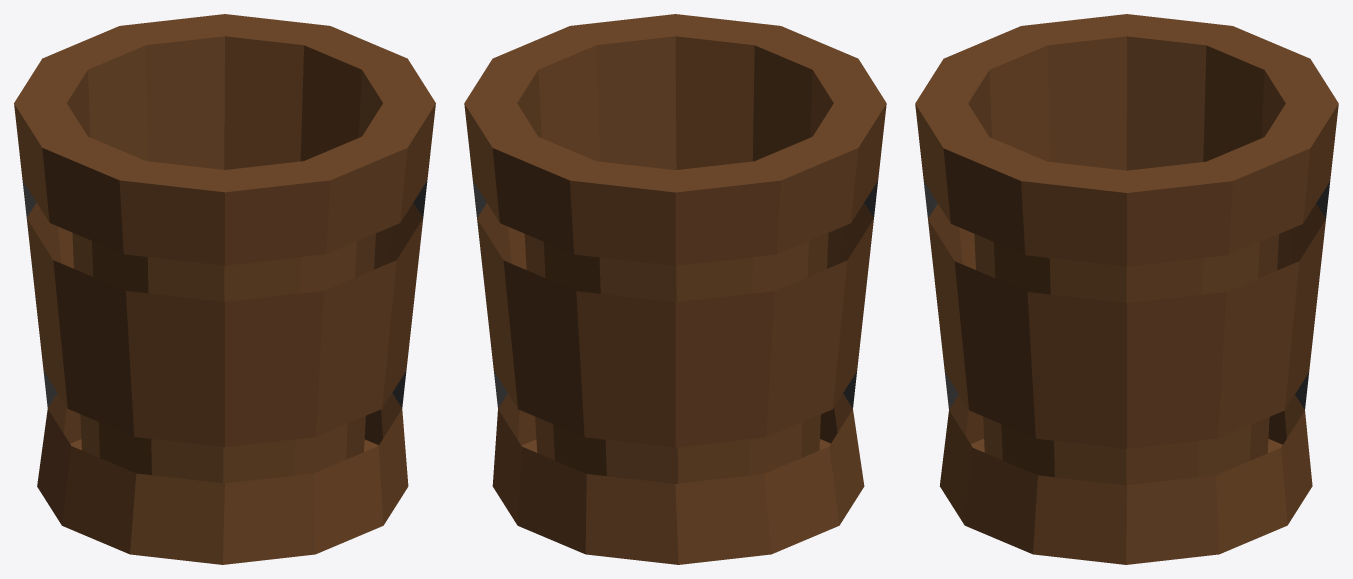
The model's file is Empty_Barrel.fbx.
The picture shows the model from 3 angles, left to right: view 1: azimuth 30°, elevation 25°; view 2: azimuth 150°, elevation 25°; view 3: azimuth 270°, elevation 25°; orthographic projection.
Visible parts, largest first — view 1: Empty_Barrel; view 2: Empty_Barrel; view 3: Empty_Barrel.
Part boxes in pixels (<box>): Empty_Barrel: <box>14,14,435,564</box>; Empty_Barrel: <box>464,14,886,564</box>; Empty_Barrel: <box>915,14,1338,564</box>.
Size of the model in its own units: 50 by 50 by 50.
